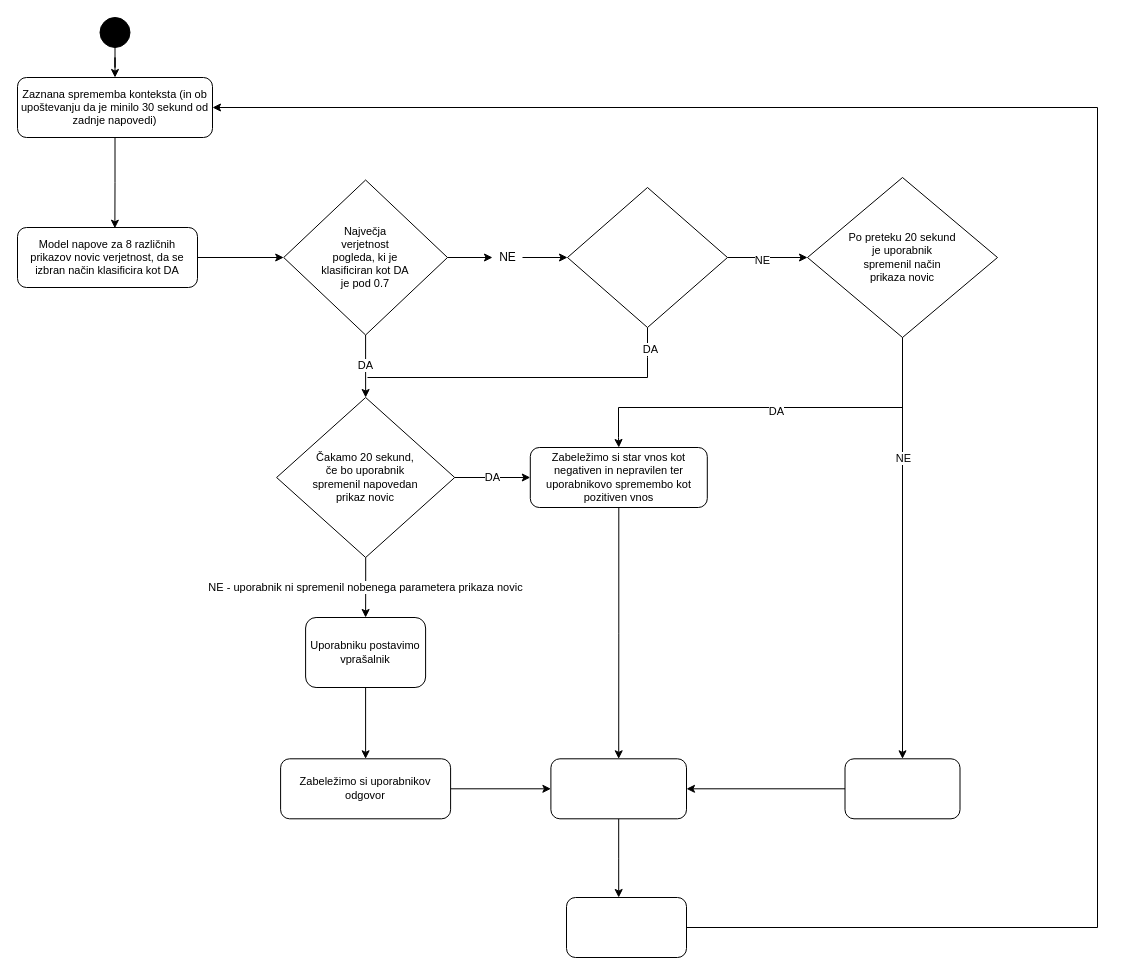
This 1123x975 diagram has some shape labels left out. Here are the shapes that lost their labels. From the top down, the box of each, then its label:
(566, 186, 728, 328): Naključno preverimo ali bomo zaradi uporabniške aktivnosti prikazali vprašalnik
(550, 758, 686, 819): Posodobimo model
(844, 758, 960, 819): Zabeležimo si napoved modela kot pravilno in pozitivno
(566, 896, 686, 958): Novo zgrajen model uporabimo za ponovno predikcijo
